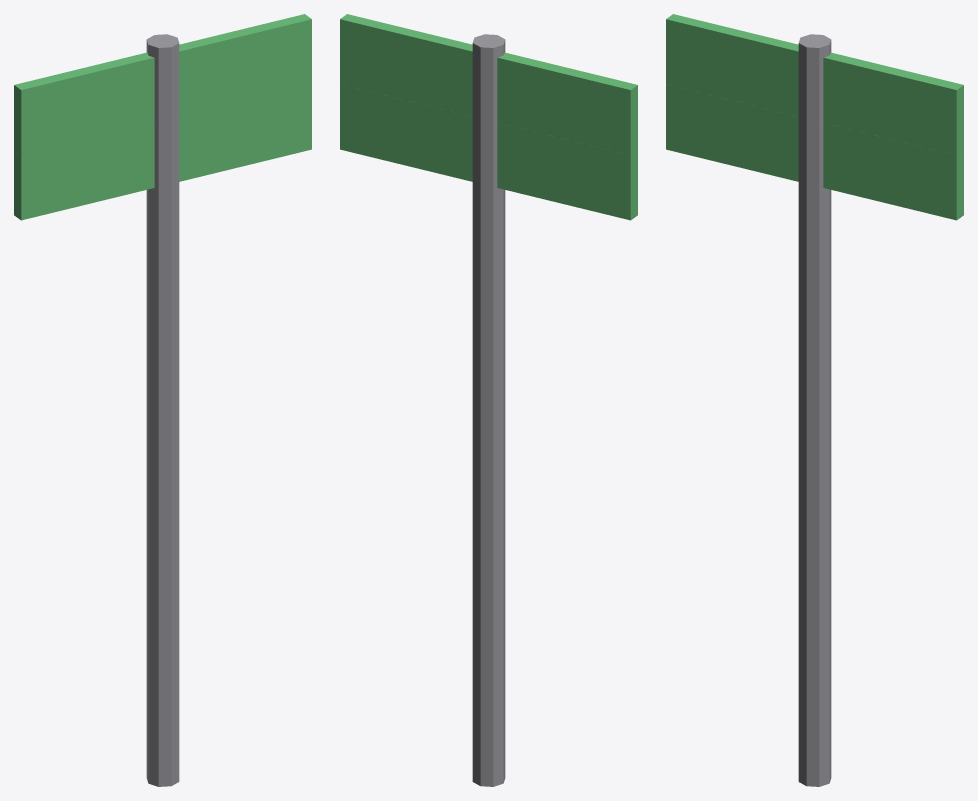
The model's file is street_name_brackets.glb.
3 views of the same model, side by side, from view 1: azimuth 30°, elevation 25°; view 2: azimuth 150°, elevation 25°; view 3: azimuth 330°, elevation 25° (orthographic).
Parts seen in each view (by area): view 1: post, blade1, blade2; view 2: post, blade1, blade2; view 3: post, blade1, blade2.
Boxes of the visible parts, x1,y1,x2,y2 form: post: [146, 34, 179, 786]; blade1: [14, 14, 311, 155]; blade2: [14, 84, 311, 220]; post: [472, 34, 505, 786]; blade1: [340, 14, 637, 155]; blade2: [340, 84, 637, 220]; post: [798, 34, 831, 786]; blade1: [666, 14, 963, 155]; blade2: [666, 84, 963, 220].
Bounding box in the file's own units: 1.4 × 3.4 × 0.1406.
